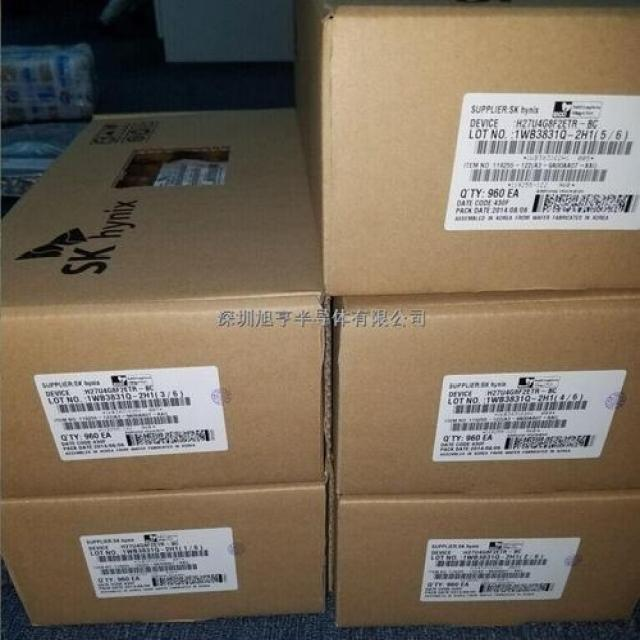box: (0, 110, 325, 496), (292, 0, 640, 291), (325, 291, 639, 495), (0, 481, 326, 627), (329, 486, 639, 627)
